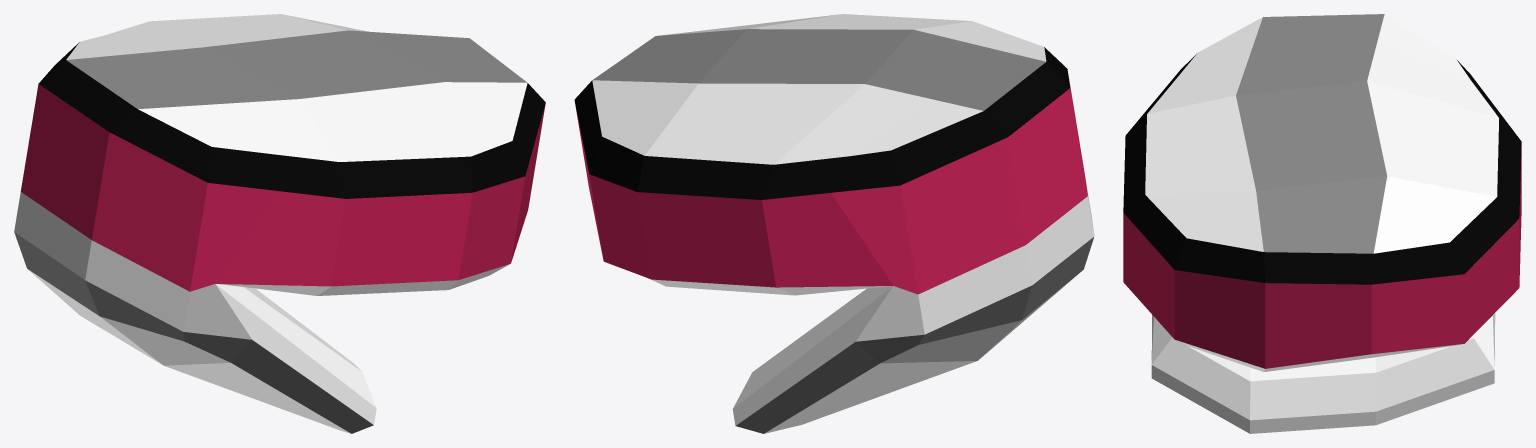
The model's file is Goalkeeper_2_Trapper.fbx.
The picture shows the model from 3 angles, left to right: view 1: azimuth 30°, elevation 25°; view 2: azimuth 150°, elevation 25°; view 3: azimuth 270°, elevation 25°; orthographic projection. The views are drawn at different scales.
Visible parts, largest first — view 1: Goalkeeper_2_Trapper; view 2: Goalkeeper_2_Trapper; view 3: Goalkeeper_2_Trapper.
Part boxes in pixels (box(x1,y1,x2,y2)): Goalkeeper_2_Trapper: box(14, 14, 545, 433); Goalkeeper_2_Trapper: box(574, 14, 1094, 433); Goalkeeper_2_Trapper: box(1123, 14, 1521, 433).
Size of the model in its own units: 36.51 by 27.3 by 29.79.
